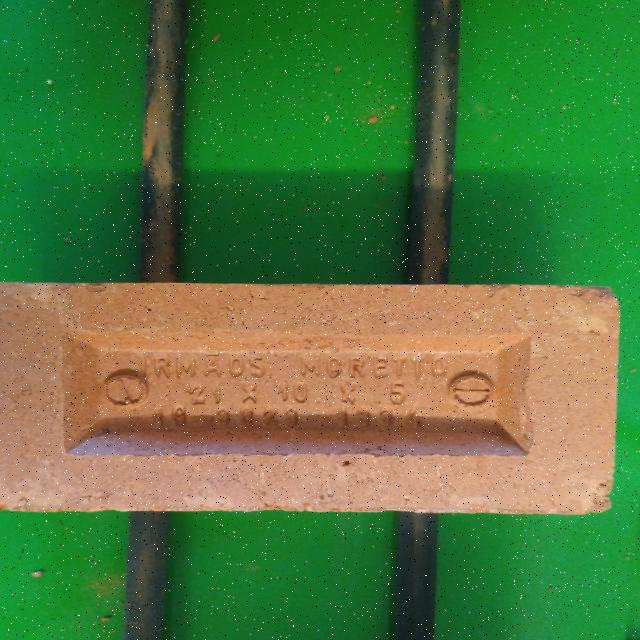bricks: (0, 282, 609, 512), (119, 274, 126, 276)
